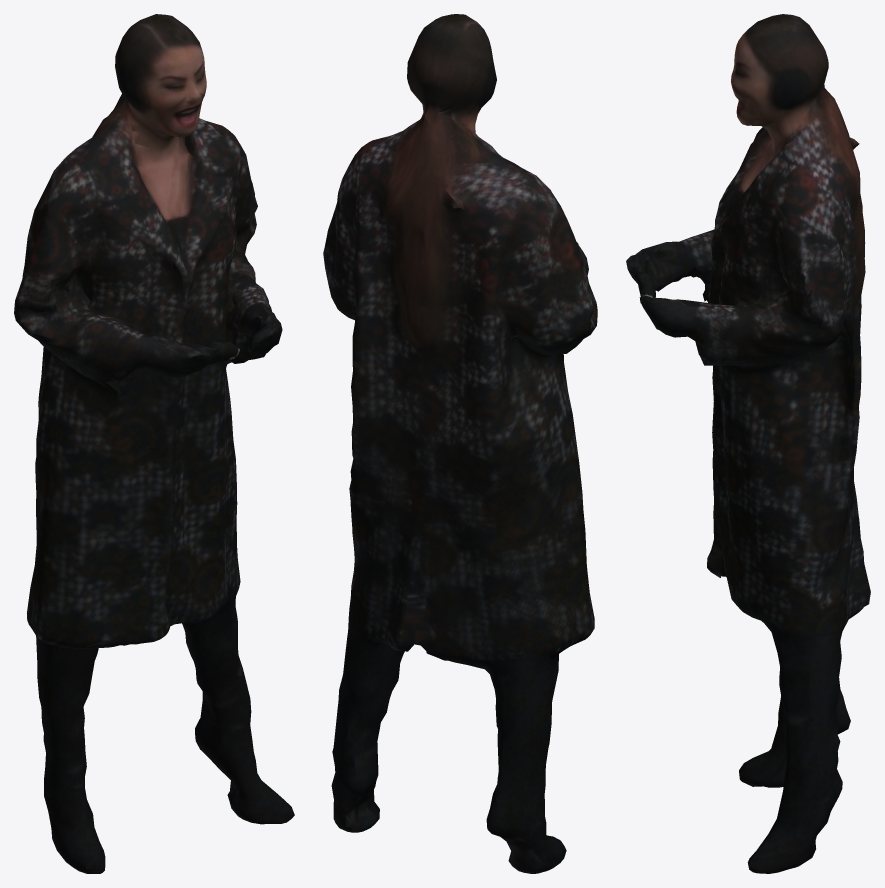
The model's file is evercoast.0087.gltf.
The picture shows the model from 3 angles, left to right: view 1: azimuth 30°, elevation 25°; view 2: azimuth 150°, elevation 25°; view 3: azimuth 270°, elevation 25°; orthographic projection. The views are drawn at different scales.
Visible parts, largest first — view 1: HIGH; view 2: HIGH; view 3: HIGH.
Part boxes in pixels (bbox=[...]): HIGH: bbox=[14, 14, 294, 873]; HIGH: bbox=[323, 14, 597, 873]; HIGH: bbox=[626, 14, 870, 873].
Size of the model in its own units: 0.6075 by 1.84 by 0.5051.
Materials: 1 (1 with a texture image).
